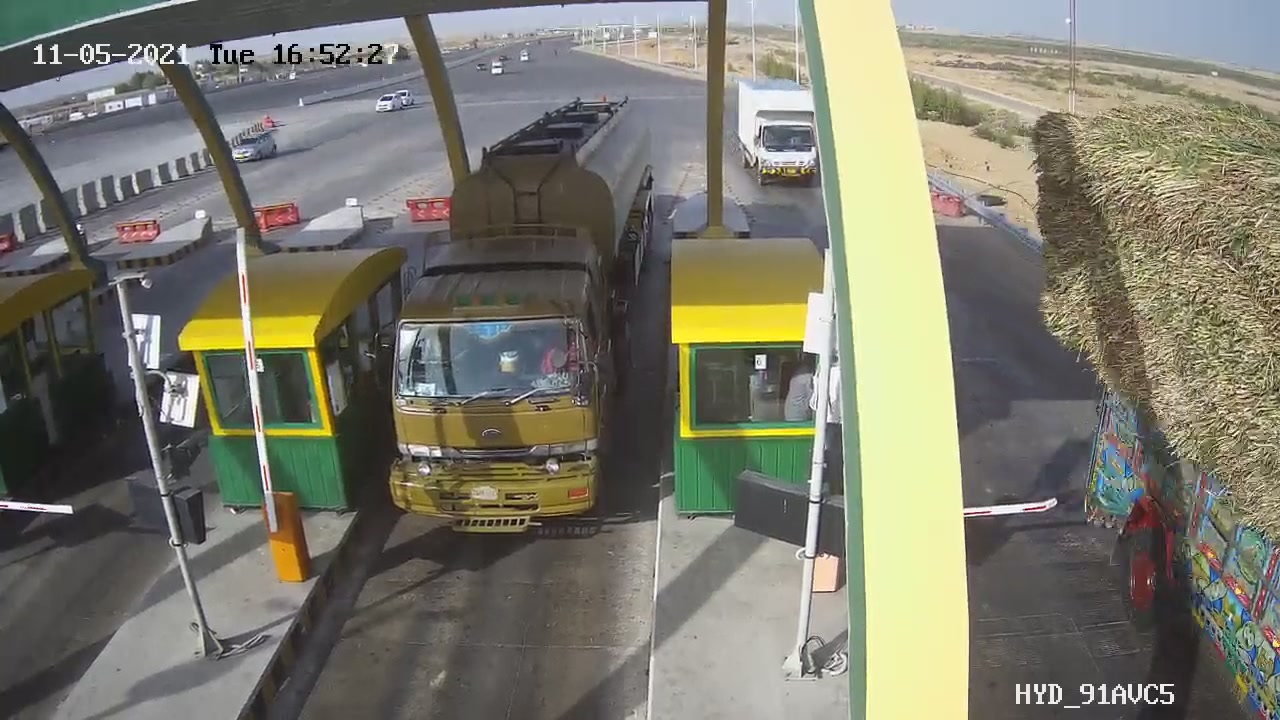F6: (337, 79, 697, 571)
